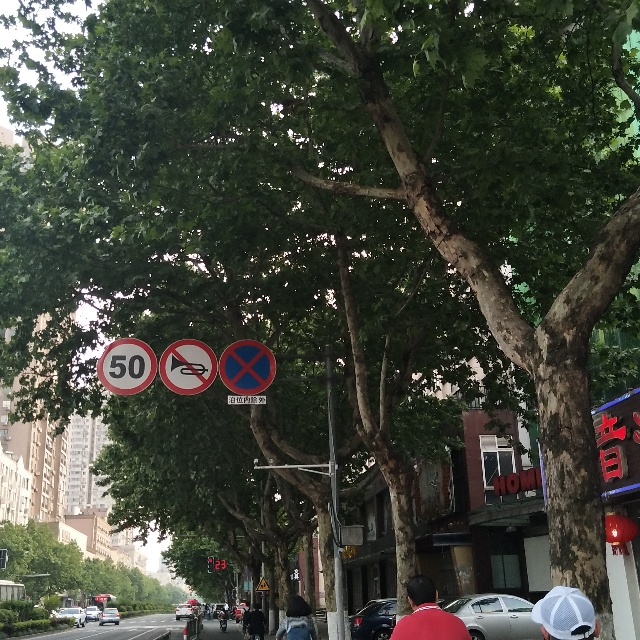nohonk: (156, 336, 219, 396)
stop: (219, 338, 283, 398)
